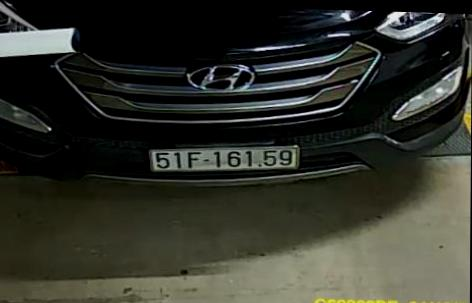License_Plate: (151, 144, 300, 173)
